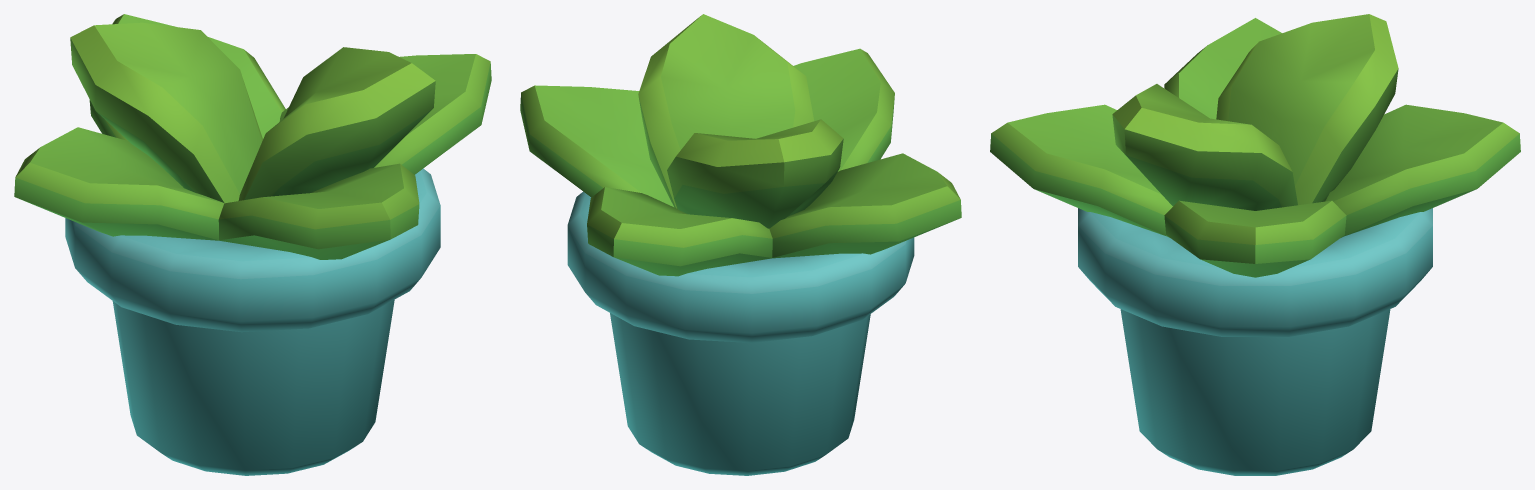
File: basil-plant.glb
The picture shows the model from 3 angles, left to right: view 1: azimuth 30°, elevation 25°; view 2: azimuth 150°, elevation 25°; view 3: azimuth 270°, elevation 25°; orthographic projection. The views are drawn at different scales.
Parts seen in each view (by area): view 1: plant; view 2: plant; view 3: plant.
Boxes of the visible parts, left/top/right/bottom form: plant: left=14, top=14, right=491, bottom=475; plant: left=520, top=14, right=961, bottom=475; plant: left=990, top=14, right=1520, bottom=475.
Size of the model in its own units: 1 by 0.7739 by 1.
Materials: 1 (1 with a texture image).
